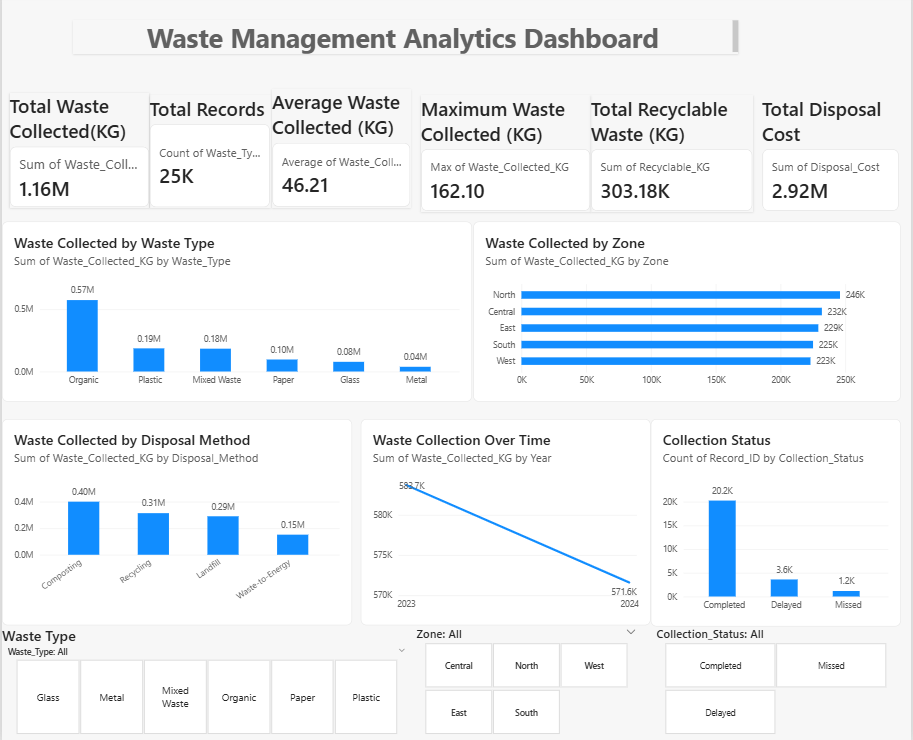

What the dashboard file says about the page in this screenshot:
{"tool":"powerbi","page":{"name":"Page 1","canvas":[1280,1050],"ordinal":0},"visuals":[{"type":"cardVisual","title":"Total Waste Collected(KG)","fields":{"Data":["Sum(waste_management waste_analysis.Waste_Collected_KG)"]},"box":[10.6,139,197.1,161.9],"z":0},{"type":"cardVisual","title":"Total Records","fields":{"Data":["CountNonNull(waste_management waste_analysis.Waste_Type)"]},"box":[207.6,142.5,170.7,158.3],"z":1},{"type":"cardVisual","title":"Average Waste Collected (KG)","fields":{"Data":["Avg(waste_management waste_analysis.Waste_Collected_KG)"]},"box":[380,133.7,195.3,167.1],"z":2},{"type":"cardVisual","title":"Maximum Waste Collected (KG)","fields":{"Data":["Max(waste_management waste_analysis.Waste_Collected_KG)"]},"box":[589.4,142.5,239.3,163.6],"z":3},{"type":"clusteredColumnChart","title":"Waste Collected by Waste Type","fields":{"Category":["waste_management waste_analysis.Waste_Type"],"Y":["Sum(waste_management waste_analysis.Waste_Collected_KG)"]},"box":[0,320.2,661.5,253.4],"z":4},{"type":"clusteredBarChart","title":"Waste Collected by Zone","fields":{"Category":["waste_management waste_analysis.Zone"],"Y":["Sum(waste_management waste_analysis.Waste_Collected_KG)"]},"box":[663.3,320.2,601.7,253.4],"z":5},{"type":"clusteredColumnChart","title":"Waste Collected by Disposal Method","fields":{"Category":["waste_management waste_analysis.Disposal_Method"],"Y":["Sum(waste_management waste_analysis.Waste_Collected_KG)"]},"box":[0,598.2,492.6,290.3],"z":6},{"type":"lineChart","title":"Waste Collection Over Time","fields":{"Category":["waste_management waste_analysis.Collection_Date.Variation.Date Hierarchy.Year","waste_management waste_analysis.Collection_Date.Variation.Date Hierarchy.Quarter","waste_management waste_analysis.Collection_Date.Variation.Date Hierarchy.Month","waste_management waste_analysis.Collection_Date.Variation.Date Hierarchy.Day"],"Y":["Sum(waste_management waste_analysis.Waste_Collected_KG)"]},"box":[504.9,598.2,408.2,290.3],"z":7},{"type":"clusteredColumnChart","title":"Collection Status","fields":{"Category":["waste_management waste_analysis.Collection_Status"],"Y":["CountNonNull(waste_management waste_analysis.Record_ID)"]},"box":[913.1,598.2,351.9,292.1],"z":8},{"type":"cardVisual","title":"Total Recyclable Waste (KG)","fields":{"Data":["Sum(waste_management waste_analysis.Recyclable_KG)"]},"box":[828.7,142.5,228.7,163.6],"z":9},{"type":"cardVisual","title":"Total Disposal Cost","fields":{"Data":["Sum(waste_management waste_analysis.Disposal_Cost)"]},"box":[1069.7,142.5,193.5,163.6],"z":10},{"type":"slicer","title":"Waste Type","fields":{"Values":["waste_management waste_analysis.Waste_Type"]},"box":[0,888.5,575.3,154.8],"z":11},{"type":"slicer","title":"Zone","fields":{"Values":["waste_management waste_analysis.Zone"]},"box":[575.3,888.5,323.7,154.8],"z":12},{"type":"slicer","fields":{"Values":["waste_management waste_analysis.Collection_Status"]},"box":[913.1,888.5,350.1,154.8],"z":13},{"type":"textbox","box":[100.3,36.9,936,47.5],"z":14}]}

Visuals, with their boxes in screenshot pixels (x1, y1, x2, y2), scaled from the page's 1280x1050 canvas onto the 913x740 screenshot:
"Total Waste Collected(KG)" cardVisual: locate(8, 98, 148, 212)
"Total Records" cardVisual: locate(148, 100, 270, 212)
"Average Waste Collected (KG)" cardVisual: locate(271, 94, 410, 212)
"Maximum Waste Collected (KG)" cardVisual: locate(420, 100, 591, 216)
"Waste Collected by Waste Type" clusteredColumnChart: locate(0, 226, 472, 404)
"Waste Collected by Zone" clusteredBarChart: locate(473, 226, 902, 404)
"Waste Collected by Disposal Method" clusteredColumnChart: locate(0, 422, 351, 626)
"Waste Collection Over Time" lineChart: locate(360, 422, 651, 626)
"Collection Status" clusteredColumnChart: locate(651, 422, 902, 627)
"Total Recyclable Waste (KG)" cardVisual: locate(591, 100, 754, 216)
"Total Disposal Cost" cardVisual: locate(763, 100, 901, 216)
"Waste Type" slicer: locate(0, 626, 410, 735)
"Zone" slicer: locate(410, 626, 641, 735)
slicer - waste_management waste_analysis.Collection_Status: locate(651, 626, 901, 735)
textbox: locate(72, 26, 739, 59)
